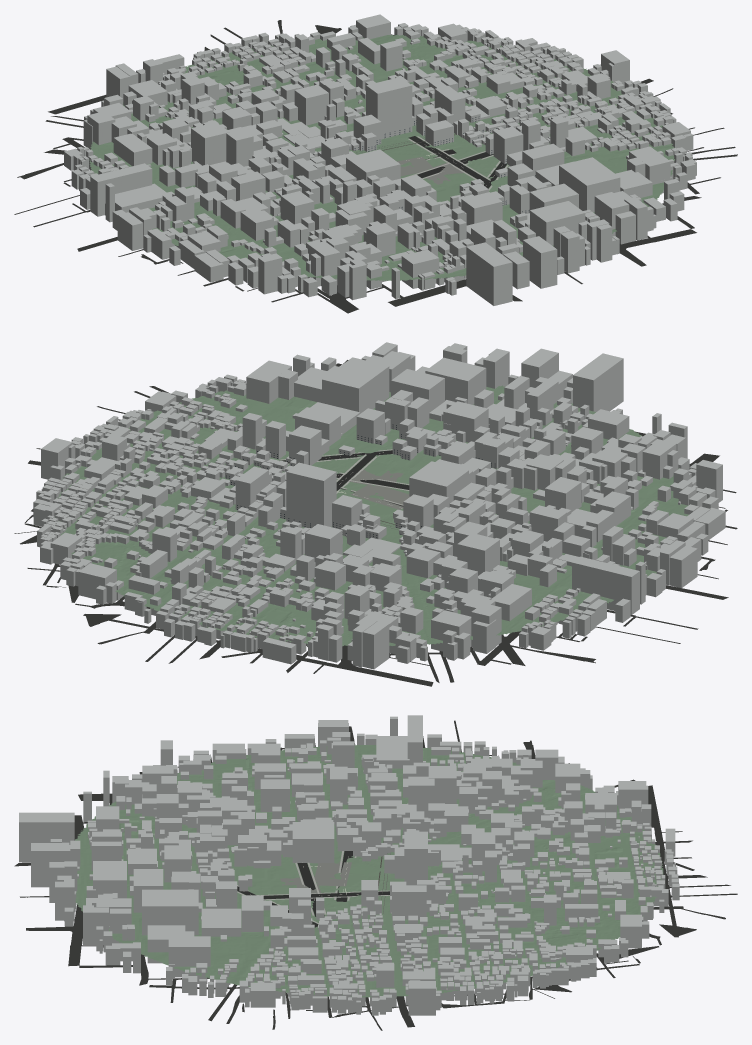
File: Hon_Atsugi_Station_Plateau_CityOnly_UE5_Centered.fbx
3 views of the same model, one above another, from view 1: azimuth 30°, elevation 25°; view 2: azimuth 150°, elevation 25°; view 3: azimuth 270°, elevation 25° (orthographic). The views are drawn at different scales.
Parts seen in each view (by area): view 1: UE5_HonAtsugi_Buildings, UE5_HonAtsugi_Terrain, UE5_HonAtsugi_Infrastructure; view 2: UE5_HonAtsugi_Buildings, UE5_HonAtsugi_Terrain, UE5_HonAtsugi_Infrastructure; view 3: UE5_HonAtsugi_Buildings, UE5_HonAtsugi_Terrain, UE5_HonAtsugi_Infrastructure.
Part boxes in pixels (bbox=[...]): UE5_HonAtsugi_Buildings: bbox=[64, 14, 696, 305]; UE5_HonAtsugi_Terrain: bbox=[89, 34, 674, 280]; UE5_HonAtsugi_Infrastructure: bbox=[14, 20, 737, 313]; UE5_HonAtsugi_Buildings: bbox=[33, 342, 725, 669]; UE5_HonAtsugi_Terrain: bbox=[55, 385, 688, 646]; UE5_HonAtsugi_Infrastructure: bbox=[14, 360, 737, 686]; UE5_HonAtsugi_Buildings: bbox=[19, 715, 679, 1015]; UE5_HonAtsugi_Terrain: bbox=[75, 745, 663, 997]; UE5_HonAtsugi_Infrastructure: bbox=[14, 720, 737, 1030].
Size of the model in its own units: 1.18e+07 by 1020871 by 1.17e+07.
